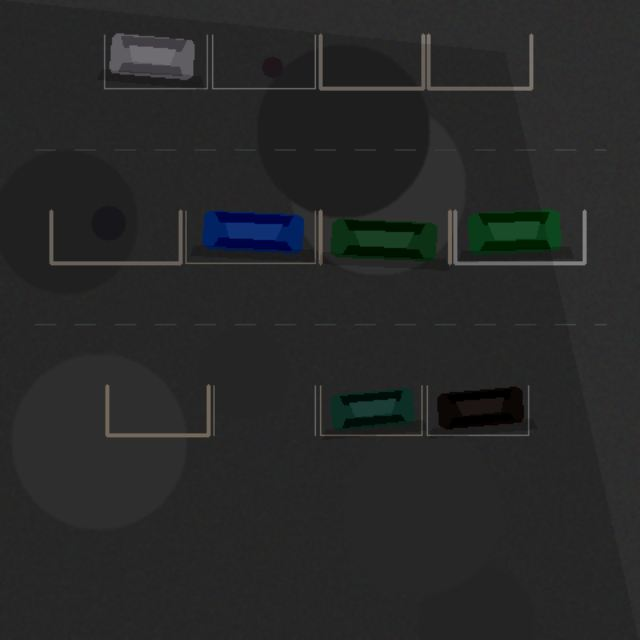space-empty: (51, 211, 180, 263), (212, 35, 315, 88), (320, 35, 423, 88), (428, 35, 531, 88), (213, 385, 315, 435), (107, 385, 208, 435)
space-occupied: (185, 211, 315, 263), (320, 211, 449, 263), (455, 211, 584, 263), (104, 35, 207, 88), (320, 385, 421, 435), (427, 385, 528, 435)
